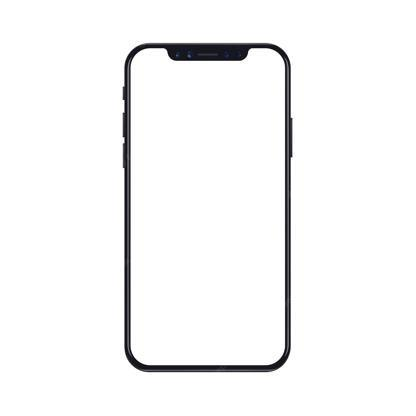not trash: (117, 35, 298, 369)
